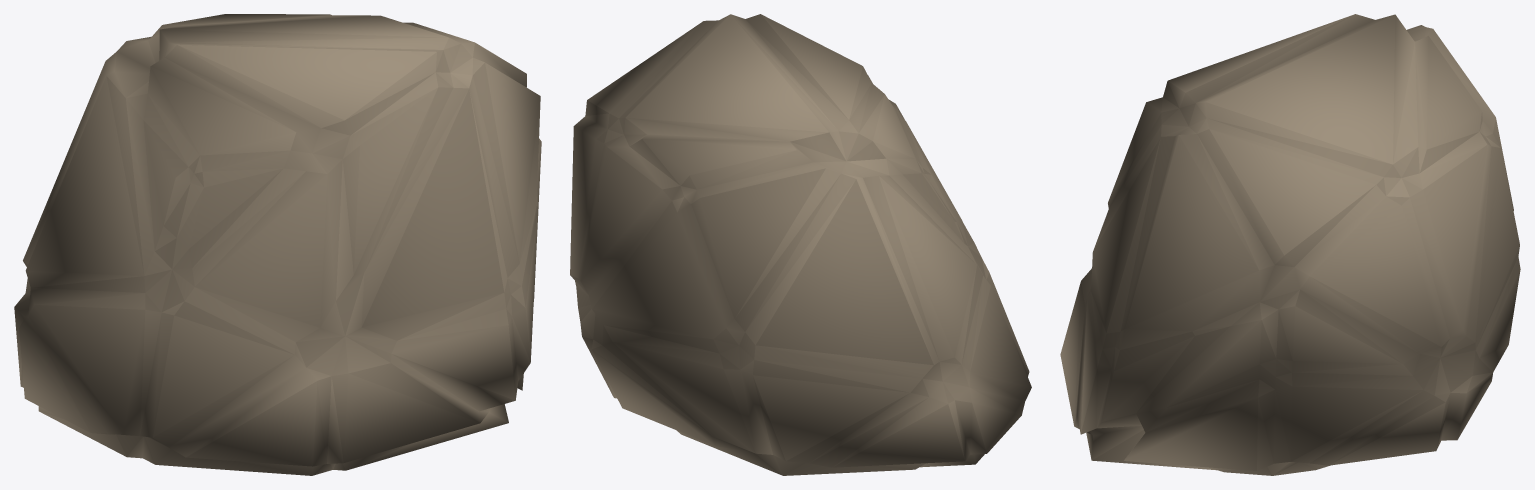
Rendered from Granit_V2_5_LOD0.fbx.
3 renders of one model, left to right at view 1: azimuth 30°, elevation 25°; view 2: azimuth 150°, elevation 25°; view 3: azimuth 270°, elevation 25°, orthographic. The views are drawn at different scales.
Parts seen in each view (by area): view 1: Granit_V2_5; view 2: Granit_V2_5; view 3: Granit_V2_5.
Part boxes in pixels (box(x1,y1,x2,y2)): Granit_V2_5: box(14, 14, 541, 475); Granit_V2_5: box(570, 14, 1031, 475); Granit_V2_5: box(1060, 14, 1520, 475).
Bounding box in the file's own units: 71.5 × 49.95 × 58.46.
